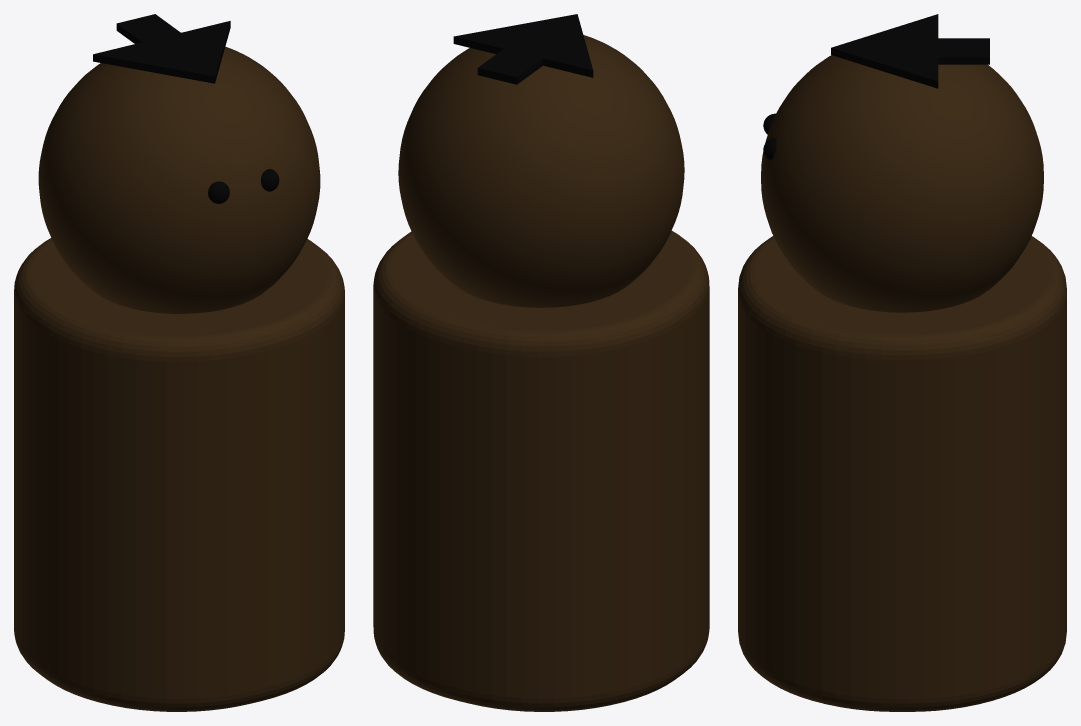
The model's file is 4brown.obj.
3 views of the same model, side by side, from view 1: azimuth 30°, elevation 25°; view 2: azimuth 150°, elevation 25°; view 3: azimuth 270°, elevation 25° (orthographic).
Visible parts, largest first — view 1: Cube.004_Cube.010; view 2: Cube.004_Cube.010; view 3: Cube.004_Cube.010.
Boxes of the visible parts, left/top/right/bottom form: Cube.004_Cube.010: left=14, top=14, right=344, bottom=711; Cube.004_Cube.010: left=373, top=14, right=709, bottom=711; Cube.004_Cube.010: left=738, top=14, right=1066, bottom=711.
Size of the model in its own units: 0.2392 by 0.4819 by 0.2392.
